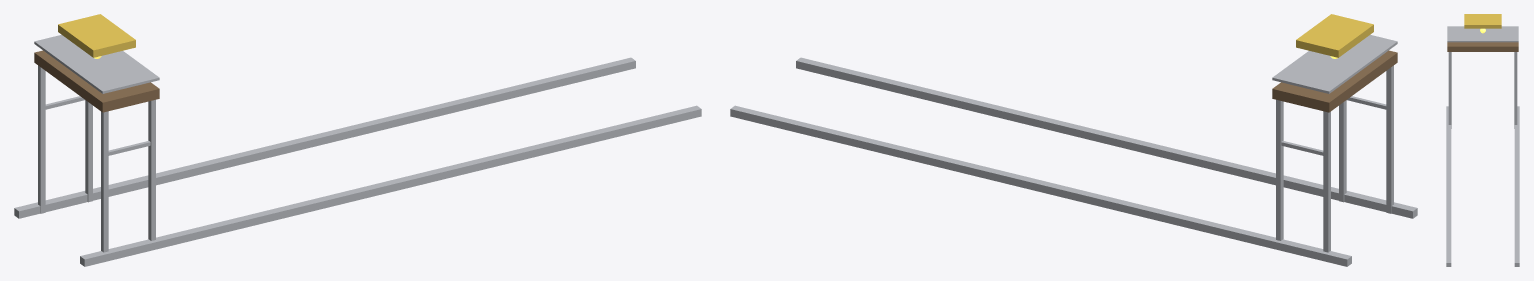
File: 15_vault_gantry.glb
3 renders of one model, left to right at view 1: azimuth 30°, elevation 25°; view 2: azimuth 150°, elevation 25°; view 3: azimuth 270°, elevation 25°, orthographic. The views are drawn at different scales.
Visible parts, largest first — view 1: vault_gantry_rail_-1, vault_gantry_rail_1, gantry_handrail_nocol, gantry_deck, gantry_cradle, gantry_leg_1_-1_nocol, gantry_leg_-1_-1_nocol, gantry_leg_-1_1_nocol, gantry_leg_1_1_nocol; view 2: vault_gantry_rail_1, vault_gantry_rail_-1, gantry_handrail_nocol, gantry_deck, gantry_cradle, gantry_leg_-1_-1_nocol, gantry_leg_1_-1_nocol, gantry_leg_1_1_nocol, gantry_leg_-1_1_nocol; view 3: gantry_handrail_nocol, vault_gantry_rail_-1, vault_gantry_rail_1, gantry_deck, gantry_cradle, gantry_leg_-1_1_nocol, gantry_leg_1_1_nocol.
Boxes of the visible parts, x1,y1,x2,y2 form: vault_gantry_rail_-1: (80, 105, 701, 266); vault_gantry_rail_1: (14, 57, 635, 218); gantry_handrail_nocol: (34, 34, 159, 93); gantry_deck: (34, 50, 159, 112); gantry_cradle: (58, 14, 135, 57); gantry_leg_1_-1_nocol: (38, 65, 45, 213); gantry_leg_-1_-1_nocol: (101, 111, 108, 252); gantry_leg_-1_1_nocol: (148, 99, 155, 240); gantry_leg_1_1_nocol: (85, 100, 92, 202); vault_gantry_rail_1: (730, 105, 1351, 266); vault_gantry_rail_-1: (796, 57, 1417, 218); gantry_handrail_nocol: (1272, 34, 1397, 93); gantry_deck: (1272, 50, 1397, 112); gantry_cradle: (1296, 14, 1373, 57); gantry_leg_-1_-1_nocol: (1386, 65, 1393, 213); gantry_leg_1_-1_nocol: (1323, 111, 1330, 252); gantry_leg_1_1_nocol: (1276, 99, 1283, 240); gantry_leg_-1_1_nocol: (1339, 100, 1346, 202); gantry_handrail_nocol: (1447, 26, 1518, 42); vault_gantry_rail_-1: (1446, 106, 1451, 266); vault_gantry_rail_1: (1514, 106, 1519, 266); gantry_deck: (1447, 42, 1518, 51); gantry_cradle: (1464, 14, 1501, 28); gantry_leg_-1_1_nocol: (1448, 52, 1451, 128); gantry_leg_1_1_nocol: (1514, 52, 1517, 128).
Bounding box in the file's own units: 52 × 15.9 × 10.28.
